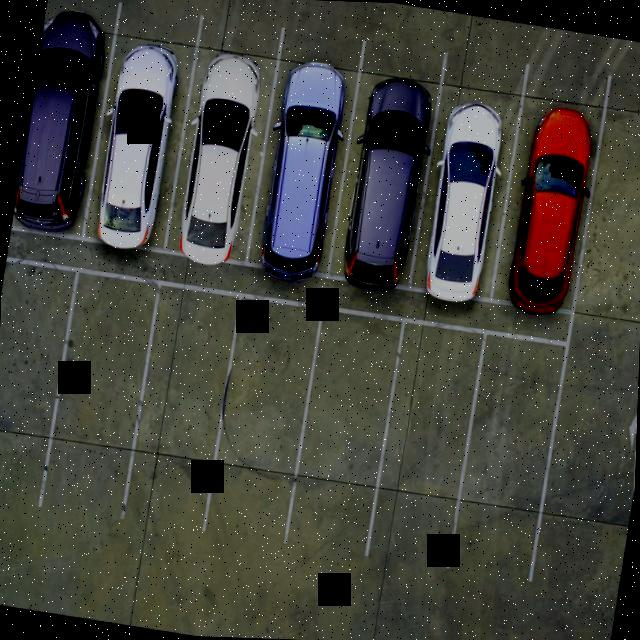car: (321, 59, 442, 294), (162, 35, 284, 262), (247, 42, 361, 279), (90, 13, 203, 250), (410, 76, 524, 303), (488, 94, 606, 313), (10, 8, 120, 241)
free: (364, 318, 486, 568), (283, 307, 402, 548), (121, 282, 239, 521), (200, 298, 316, 538), (41, 271, 156, 508), (454, 334, 566, 572), (0, 257, 79, 500)
